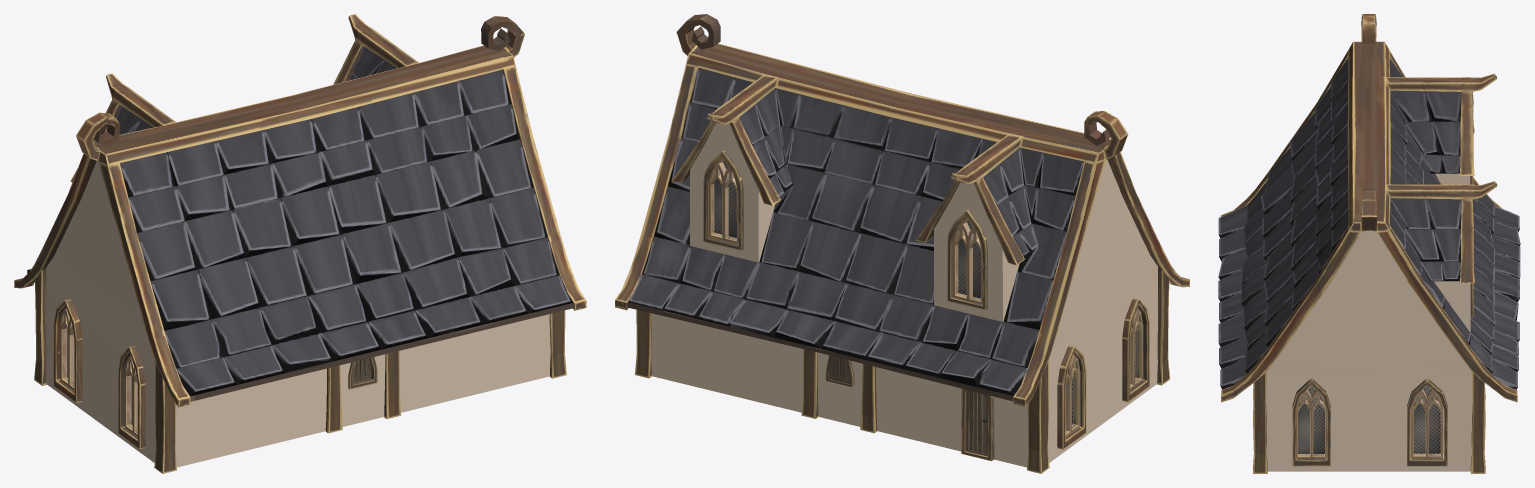
The model's file is House 4.fbx.
3 views of the same model, side by side, from view 1: azimuth 30°, elevation 25°; view 2: azimuth 150°, elevation 25°; view 3: azimuth 270°, elevation 25° (orthographic). The views are drawn at different scales.
Visible parts, largest first — view 1: House 4; view 2: House 4; view 3: House 4.
Boxes of the visible parts, box(x1,y1,x2,y2) form: House 4: box(14, 14, 586, 473); House 4: box(615, 14, 1189, 473); House 4: box(1218, 14, 1520, 473).
Size of the model in its own units: 2813 by 1894 by 1843.
